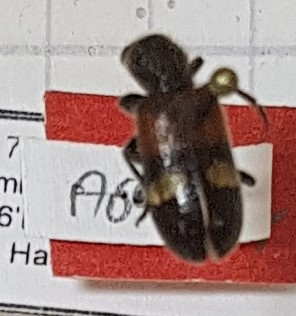opilo_taeniatus: (114, 27, 269, 267)
